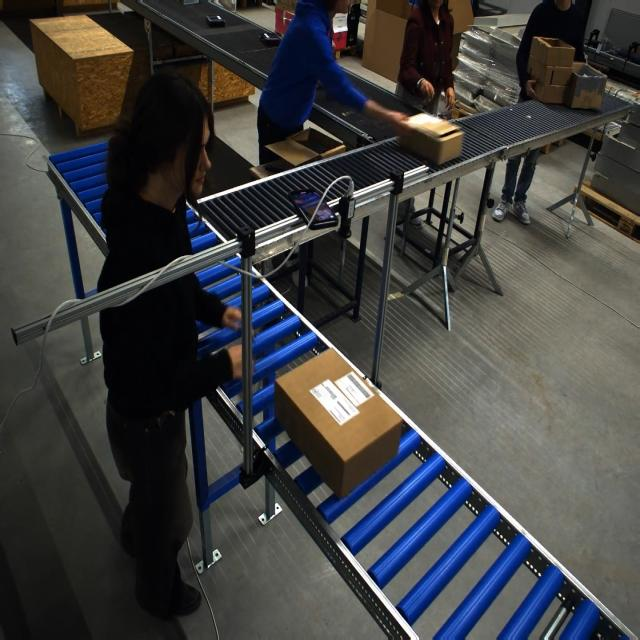box: (273, 351, 402, 495), (399, 108, 467, 185), (261, 127, 341, 171)
product: (259, 32, 281, 45), (205, 15, 226, 28)
